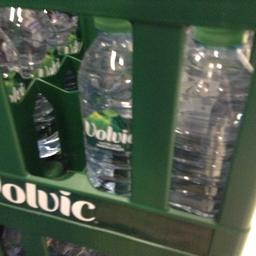water: (167, 24, 254, 217), (74, 14, 132, 196)
